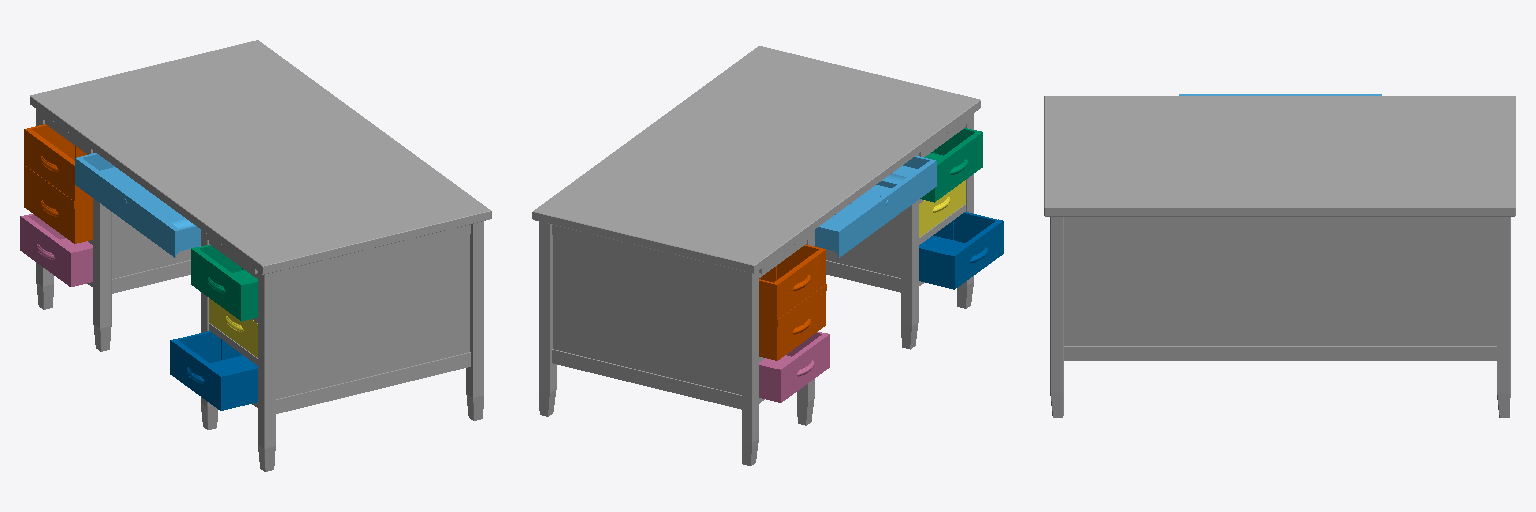
--- Facts derived from the render (not from the file) ---
3 views of the same robot in one strip: view 1: azimuth 30°, elevation 25°; view 2: azimuth 150°, elevation 25°; view 3: azimuth 270°, elevation 25° (orthographic).
Robot: partnet_f643a64a4e38723f73c478529c40c4e6 — 8 links, 7 joints (6 prismatic, 1 fixed); root link base; default pose: every joint at zero.
Links seen in each view (by area): view 1: link_6, link_4, link_0, link_3, link_1, link_5, link_2; view 2: link_6, link_4, link_0, link_3, link_5, link_1, link_2; view 3: link_6.
Link boxes in pixels (x1,y1,x2,y2): link_6: [30, 40, 491, 471]; link_4: [24, 124, 92, 243]; link_0: [75, 153, 200, 257]; link_3: [170, 331, 257, 410]; link_1: [191, 245, 257, 321]; link_5: [20, 214, 92, 286]; link_2: [209, 298, 257, 357]; link_6: [532, 46, 980, 465]; link_4: [759, 245, 826, 360]; link_0: [815, 156, 936, 257]; link_3: [919, 212, 1003, 289]; link_5: [759, 332, 829, 402]; link_1: [920, 128, 982, 202]; link_2: [919, 180, 965, 237]; link_6: [1044, 96, 1515, 417].
Size in the robot's own frame: 1.06 by 1.61 by 0.7998 metres.
Meshes: 76 distinct files referenced, 76 mesh visuals loaded (76 OBJ).

robot.urdf — partnet_f643a64a4e38723f73c478529c40c4e6:
<?xml version='1.0' encoding='utf-8'?>
<robot name="partnet_f643a64a4e38723f73c478529c40c4e6">
	<link name="base" />
	<link name="link_0">
		<visual name="drawer_front-92">
			<origin xyz="0 0 0" />
			<geometry>
				<mesh filename="textured_objs/original-5.obj" />
			</geometry>
		</visual>
		<visual name="drawer_side-93">
			<origin xyz="0 0 0" />
			<geometry>
				<mesh filename="textured_objs/original-7.obj" />
			</geometry>
		</visual>
		<visual name="drawer_side-94">
			<origin xyz="0 0 0" />
			<geometry>
				<mesh filename="textured_objs/original-8.obj" />
			</geometry>
		</visual>
		<visual name="drawer_back-95">
			<origin xyz="0 0 0" />
			<geometry>
				<mesh filename="textured_objs/original-6.obj" />
			</geometry>
		</visual>
		<visual name="drawer_bottom-96">
			<origin xyz="0 0 0" />
			<geometry>
				<mesh filename="textured_objs/original-9.obj" />
			</geometry>
		</visual>
		<visual name="other_leaf-118">
			<origin xyz="0 0 0" />
			<geometry>
				<mesh filename="textured_objs/original-3.obj" />
			</geometry>
		</visual>
		<visual name="other_leaf-118">
			<origin xyz="0 0 0" />
			<geometry>
				<mesh filename="textured_objs/original-4.obj" />
			</geometry>
		</visual>
		<collision>
			<origin xyz="0 0 0" />
			<geometry>
				<mesh filename="textured_objs/original-5.obj" />
			</geometry>
		</collision>
		<collision>
			<origin xyz="0 0 0" />
			<geometry>
				<mesh filename="textured_objs/original-7.obj" />
			</geometry>
		</collision>
		<collision>
			<origin xyz="0 0 0" />
			<geometry>
				<mesh filename="textured_objs/original-8.obj" />
			</geometry>
		</collision>
		<collision>
			<origin xyz="0 0 0" />
			<geometry>
				<mesh filename="textured_objs/original-6.obj" />
			</geometry>
		</collision>
		<collision>
			<origin xyz="0 0 0" />
			<geometry>
				<mesh filename="textured_objs/original-9.obj" />
			</geometry>
		</collision>
		<collision>
			<origin xyz="0 0 0" />
			<geometry>
				<mesh filename="textured_objs/original-3.obj" />
			</geometry>
		</collision>
		<collision>
			<origin xyz="0 0 0" />
			<geometry>
				<mesh filename="textured_objs/original-4.obj" />
			</geometry>
		</collision>
	</link>
	<joint name="joint_0" type="prismatic">
		<origin xyz="0 0 0" />
		<axis xyz="0 0 1" />
		<child link="link_0" />
		<parent link="link_6" />
		<limit lower="-0.08800000000000008" upper="0.6400000000000001" />
	</joint>
	<link name="link_1">
		<visual name="drawer_front-84">
			<origin xyz="0 0 0" />
			<geometry>
				<mesh filename="textured_objs/original-83.obj" />
			</geometry>
		</visual>
		<visual name="drawer_side-85">
			<origin xyz="0 0 0" />
			<geometry>
				<mesh filename="textured_objs/original-88.obj" />
			</geometry>
		</visual>
		<visual name="drawer_side-86">
			<origin xyz="0 0 0" />
			<geometry>
				<mesh filename="textured_objs/original-86.obj" />
			</geometry>
		</visual>
		<visual name="drawer_back-87">
			<origin xyz="0 0 0" />
			<geometry>
				<mesh filename="textured_objs/original-87.obj" />
			</geometry>
		</visual>
		<visual name="drawer_bottom-88">
			<origin xyz="0 0 0" />
			<geometry>
				<mesh filename="textured_objs/original-89.obj" />
			</geometry>
		</visual>
		<visual name="handle-83">
			<origin xyz="0 0 0" />
			<geometry>
				<mesh filename="textured_objs/original-82.obj" />
			</geometry>
		</visual>
		<visual name="handle-83">
			<origin xyz="0 0 0" />
			<geometry>
				<mesh filename="textured_objs/original-81.obj" />
			</geometry>
		</visual>
		<collision>
			<origin xyz="0 0 0" />
			<geometry>
				<mesh filename="textured_objs/original-83.obj" />
			</geometry>
		</collision>
		<collision>
			<origin xyz="0 0 0" />
			<geometry>
				<mesh filename="textured_objs/original-88.obj" />
			</geometry>
		</collision>
		<collision>
			<origin xyz="0 0 0" />
			<geometry>
				<mesh filename="textured_objs/original-86.obj" />
			</geometry>
		</collision>
		<collision>
			<origin xyz="0 0 0" />
			<geometry>
				<mesh filename="textured_objs/original-87.obj" />
			</geometry>
		</collision>
		<collision>
			<origin xyz="0 0 0" />
			<geometry>
				<mesh filename="textured_objs/original-89.obj" />
			</geometry>
		</collision>
		<collision>
			<origin xyz="0 0 0" />
			<geometry>
				<mesh filename="textured_objs/original-82.obj" />
			</geometry>
		</collision>
		<collision>
			<origin xyz="0 0 0" />
			<geometry>
				<mesh filename="textured_objs/original-81.obj" />
			</geometry>
		</collision>
	</link>
	<joint name="joint_1" type="prismatic">
		<origin xyz="0 0 0" />
		<axis xyz="0 0 1" />
		<child link="link_1" />
		<parent link="link_6" />
		<limit lower="-0.06000000000000005" upper="0.6840000000000002" />
	</joint>
	<link name="link_2">
		<visual name="drawer_front-77">
			<origin xyz="0 0 0" />
			<geometry>
				<mesh filename="textured_objs/original-46.obj" />
			</geometry>
		</visual>
		<visual name="drawer_side-78">
			<origin xyz="0 0 0" />
			<geometry>
				<mesh filename="textured_objs/original-51.obj" />
			</geometry>
		</visual>
		<visual name="drawer_side-79">
			<origin xyz="0 0 0" />
			<geometry>
				<mesh filename="textured_objs/original-49.obj" />
			</geometry>
		</visual>
		<visual name="drawer_back-80">
			<origin xyz="0 0 0" />
			<geometry>
				<mesh filename="textured_objs/original-50.obj" />
			</geometry>
		</visual>
		<visual name="drawer_bottom-81">
			<origin xyz="0 0 0" />
			<geometry>
				<mesh filename="textured_objs/original-52.obj" />
			</geometry>
		</visual>
		<visual name="handle-76">
			<origin xyz="0 0 0" />
			<geometry>
				<mesh filename="textured_objs/original-45.obj" />
			</geometry>
		</visual>
		<visual name="handle-76">
			<origin xyz="0 0 0" />
			<geometry>
				<mesh filename="textured_objs/original-44.obj" />
			</geometry>
		</visual>
		<collision>
			<origin xyz="0 0 0" />
			<geometry>
				<mesh filename="textured_objs/original-46.obj" />
			</geometry>
		</collision>
		<collision>
			<origin xyz="0 0 0" />
			<geometry>
				<mesh filename="textured_objs/original-51.obj" />
			</geometry>
		</collision>
		<collision>
			<origin xyz="0 0 0" />
			<geometry>
				<mesh filename="textured_objs/original-49.obj" />
			</geometry>
		</collision>
		<collision>
			<origin xyz="0 0 0" />
			<geometry>
				<mesh filename="textured_objs/original-50.obj" />
			</geometry>
		</collision>
		<collision>
			<origin xyz="0 0 0" />
			<geometry>
				<mesh filename="textured_objs/original-52.obj" />
			</geometry>
		</collision>
		<collision>
			<origin xyz="0 0 0" />
			<geometry>
				<mesh filename="textured_objs/original-45.obj" />
			</geometry>
		</collision>
		<collision>
			<origin xyz="0 0 0" />
			<geometry>
				<mesh filename="textured_objs/original-44.obj" />
			</geometry>
		</collision>
	</link>
	<joint name="joint_2" type="prismatic">
		<origin xyz="0 0 0" />
		<axis xyz="0 0 1" />
		<child link="link_2" />
		<parent link="link_6" />
		<limit lower="0" upper="0.7959999999999998" />
	</joint>
	<link name="link_3">
		<visual name="drawer_front-70">
			<origin xyz="0 0 0" />
			<geometry>
				<mesh filename="textured_objs/original-35.obj" />
			</geometry>
		</visual>
		<visual name="drawer_side-71">
			<origin xyz="0 0 0" />
			<geometry>
				<mesh filename="textured_objs/original-40.obj" />
			</geometry>
		</visual>
		<visual name="drawer_side-72">
			<origin xyz="0 0 0" />
			<geometry>
				<mesh filename="textured_objs/original-38.obj" />
			</geometry>
		</visual>
		<visual name="drawer_back-73">
			<origin xyz="0 0 0" />
			<geometry>
				<mesh filename="textured_objs/original-39.obj" />
			</geometry>
		</visual>
		<visual name="drawer_bottom-74">
			<origin xyz="0 0 0" />
			<geometry>
				<mesh filename="textured_objs/original-41.obj" />
			</geometry>
		</visual>
		<visual name="handle-69">
			<origin xyz="0 0 0" />
			<geometry>
				<mesh filename="textured_objs/original-33.obj" />
			</geometry>
		</visual>
		<visual name="handle-69">
			<origin xyz="0 0 0" />
			<geometry>
				<mesh filename="textured_objs/original-34.obj" />
			</geometry>
		</visual>
		<collision>
			<origin xyz="0 0 0" />
			<geometry>
				<mesh filename="textured_objs/original-35.obj" />
			</geometry>
		</collision>
		<collision>
			<origin xyz="0 0 0" />
			<geometry>
				<mesh filename="textured_objs/original-40.obj" />
			</geometry>
		</collision>
		<collision>
			<origin xyz="0 0 0" />
			<geometry>
				<mesh filename="textured_objs/original-38.obj" />
			</geometry>
		</collision>
		<collision>
			<origin xyz="0 0 0" />
			<geometry>
				<mesh filename="textured_objs/original-39.obj" />
			</geometry>
		</collision>
		<collision>
			<origin xyz="0 0 0" />
			<geometry>
				<mesh filename="textured_objs/original-41.obj" />
			</geometry>
		</collision>
		<collision>
			<origin xyz="0 0 0" />
			<geometry>
				<mesh filename="textured_objs/original-33.obj" />
			</geometry>
		</collision>
		<collision>
			<origin xyz="0 0 0" />
			<geometry>
				<mesh filename="textured_objs/original-34.obj" />
			</geometry>
		</collision>
	</link>
	<joint name="joint_3" type="prismatic">
		<origin xyz="0 0 0" />
		<axis xyz="0 0 1" />
		<child link="link_3" />
		<parent link="link_6" />
		<limit lower="-0.1399999999999999" upper="0.6320000000000001" />
	</joint>
	<link name="link_4">
		<visual name="drawer_front-61">
			<origin xyz="0 0 0" />
			<geometry>
				<mesh filename="textured_objs/original-74.obj" />
			</geometry>
		</visual>
		<visual name="drawer_side-62">
			<origin xyz="0 0 0" />
			<geometry>
				<mesh filename="textured_objs/original-75.obj" />
			</geometry>
		</visual>
		<visual name="drawer_side-63">
			<origin xyz="0 0 0" />
			<geometry>
				<mesh filename="textured_objs/original-77.obj" />
			</geometry>
		</visual>
		<visual name="drawer_back-64">
			<origin xyz="0 0 0" />
			<geometry>
				<mesh filename="textured_objs/original-76.obj" />
			</geometry>
		</visual>
		<visual name="drawer_bottom-65">
			<origin xyz="0 0 0" />
			<geometry>
				<mesh filename="textured_objs/original-78.obj" />
			</geometry>
		</visual>
		<visual name="handle-59">
			<origin xyz="0 0 0" />
			<geometry>
				<mesh filename="textured_objs/original-69.obj" />
			</geometry>
		</visual>
		<visual name="handle-59">
			<origin xyz="0 0 0" />
			<geometry>
				<mesh filename="textured_objs/original-68.obj" />
			</geometry>
		</visual>
		<visual name="handle-60">
			<origin xyz="0 0 0" />
			<geometry>
				<mesh filename="textured_objs/original-73.obj" />
			</geometry>
		</visual>
		<visual name="handle-60">
			<origin xyz="0 0 0" />
			<geometry>
				<mesh filename="textured_objs/original-72.obj" />
			</geometry>
		</visual>
		<collision>
			<origin xyz="0 0 0" />
			<geometry>
				<mesh filename="textured_objs/original-74.obj" />
			</geometry>
		</collision>
		<collision>
			<origin xyz="0 0 0" />
			<geometry>
				<mesh filename="textured_objs/original-75.obj" />
			</geometry>
		</collision>
		<collision>
			<origin xyz="0 0 0" />
			<geometry>
				<mesh filename="textured_objs/original-77.obj" />
			</geometry>
		</collision>
		<collision>
			<origin xyz="0 0 0" />
			<geometry>
				<mesh filename="textured_objs/original-76.obj" />
			</geometry>
		</collision>
		<collision>
			<origin xyz="0 0 0" />
			<geometry>
				<mesh filename="textured_objs/original-78.obj" />
			</geometry>
		</collision>
		<collision>
			<origin xyz="0 0 0" />
			<geometry>
				<mesh filename="textured_objs/original-69.obj" />
			</geometry>
		</collision>
		<collision>
			<origin xyz="0 0 0" />
			<geometry>
				<mesh filename="textured_objs/original-68.obj" />
			</geometry>
		</collision>
		<collision>
			<origin xyz="0 0 0" />
			<geometry>
				<mesh filename="textured_objs/original-73.obj" />
			</geometry>
		</collision>
		<collision>
			<origin xyz="0 0 0" />
			<geometry>
				<mesh filename="textured_objs/original-72.obj" />
			</geometry>
		</collision>
	</link>
	<joint name="joint_4" type="prismatic">
		<origin xyz="0 0 0" />
		<axis xyz="0 0 1" />
		<child link="link_4" />
		<parent link="link_6" />
		<limit lower="-0.07600000000000007" upper="0.7120000000000002" />
	</joint>
	<link name="link_5">
		<visual name="drawer_front-39">
			<origin xyz="0 0 0" />
			<geometry>
				<mesh filename="textured_objs/original-57.obj" />
			</geometry>
		</visual>
		<visual name="drawer_side-40">
			<origin xyz="0 0 0" />
			<geometry>
				<mesh filename="textured_objs/original-60.obj" />
			</geometry>
		</visual>
		<visual name="drawer_side-41">
			<origin xyz="0 0 0" />
			<geometry>
				<mesh filename="textured_objs/original-62.obj" />
			</geometry>
		</visual>
		<visual name="drawer_back-42">
			<origin xyz="0 0 0" />
			<geometry>
				<mesh filename="textured_objs/original-61.obj" />
			</geometry>
		</visual>
		<visual name="drawer_bottom-43">
			<origin xyz="0 0 0" />
			<geometry>
				<mesh filename="textured_objs/original-63.obj" />
			</geometry>
		</visual>
		<visual name="handle-38">
			<origin xyz="0 0 0" />
			<geometry>
				<mesh filename="textured_objs/original-56.obj" />
			</geometry>
		</visual>
		<visual name="handle-38">
			<origin xyz="0 0 0" />
			<geometry>
				<mesh filename="textured_objs/original-55.obj" />
			</geometry>
		</visual>
		<collision>
			<origin xyz="0 0 0" />
			<geometry>
				<mesh filename="textured_objs/original-57.obj" />
			</geometry>
		</collision>
		<collision>
			<origin xyz="0 0 0" />
			<geometry>
				<mesh filename="textured_objs/original-60.obj" />
			</geometry>
		</collision>
		<collision>
			<origin xyz="0 0 0" />
			<geometry>
				<mesh filename="textured_objs/original-62.obj" />
			</geometry>
		</collision>
		<collision>
			<origin xyz="0 0 0" />
			<geometry>
				<mesh filename="textured_objs/original-61.obj" />
			</geometry>
		</collision>
		<collision>
			<origin xyz="0 0 0" />
			<geometry>
				<mesh filename="textured_objs/original-63.obj" />
			</geometry>
		</collision>
		<collision>
			<origin xyz="0 0 0" />
			<geometry>
				<mesh filename="textured_objs/original-56.obj" />
			</geometry>
		</collision>
		<collision>
			<origin xyz="0 0 0" />
			<geometry>
				<mesh filename="textured_objs/original-55.obj" />
			</geometry>
		</collision>
	</link>
	<joint name="joint_5" type="prismatic">
		<origin xyz="0 0 0" />
		<axis xyz="0 0 1" />
		<child link="link_5" />
		<parent link="link_6" />
		<limit lower="-0.08800000000000008" upper="0.6960000000000002" />
	</joint>
	<link name="link_6">
		<visual name="board-67">
			<origin xyz="0 0 0" />
			<geometry>
				<mesh filename="textured_objs/original-1.obj" />
			</geometry>
		</visual>
		<visual name="leg-19">
			<origin xyz="0 0 0" />
			<geometry>
				<mesh filename="textured_objs/original-27.obj" />
			</geometry>
		</visual>
		<visual name="leg-20">
			<origin xyz="0 0 0" />
			<geometry>
				<mesh filename="textured_objs/original-29.obj" />
			</geometry>
		</visual>
		<visual name="leg-21">
			<origin xyz="0 0 0" />
			<geometry>
				<mesh filename="textured_objs/original-23.obj" />
			</geometry>
		</visual>
		<visual name="leg-22">
			<origin xyz="0 0 0" />
			<geometry>
				<mesh filename="textured_objs/original-20.obj" />
			</geometry>
		</visual>
		<visual name="leg-23">
			<origin xyz="0 0 0" />
			<geometry>
				<mesh filename="textured_objs/original-25.obj" />
			</geometry>
		</visual>
		<visual name="leg-24">
			<origin xyz="0 0 0" />
			<geometry>
				<mesh filename="textured_objs/original-30.obj" />
			</geometry>
		</visual>
		<visual name="back_panel-32">
			<origin xyz="0 0 0" />
			<geometry>
				<mesh filename="textured_objs/original-28.obj" />
			</geometry>
		</visual>
		<visual name="vertical_side_panel-33">
			<origin xyz="0 0 0" />
			<geometry>
				<mesh filename="textured_objs/original-17.obj" />
			</geometry>
		</visual>
		<visual name="vertical_side_panel-34">
			<origin xyz="0 0 0" />
			<geometry>
				<mesh filename="textured_objs/original-26.obj" />
			</geometry>
		</visual>
		<visual name="vertical_side_panel-35">
			<origin xyz="0 0 0" />
			<geometry>
				<mesh filename="textured_objs/original-16.obj" />
			</geometry>
		</visual>
		<visual name="vertical_side_panel-36">
			<origin xyz="0 0 0" />
			<geometry>
				<mesh filename="textured_objs/original-24.obj" />
			</geometry>
		</visual>
		<visual name="bar_stretcher-99">
			<origin xyz="0 0 0" />
			<geometry>
				<mesh filename="textured_objs/original-22.obj" />
			</geometry>
		</visual>
		<visual name="bar_stretcher-100">
			<origin xyz="0 0 0" />
			<geometry>
				<mesh filename="textured_objs/original-13.obj" />
			</geometry>
		</visual>
		<visual name="bar_stretcher-101">
			<origin xyz="0 0 0" />
			<geometry>
				<mesh filename="textured_objs/original-12.obj" />
			</geometry>
		</visual>
		<visual name="bar_stretcher-102">
			<origin xyz="0 0 0" />
			<geometry>
				<mesh filename="textured_objs/original-21.obj" />
			</geometry>
		</visual>
		<visual name="bar_stretcher-103">
			<origin xyz="0 0 0" />
			<geometry>
				<mesh filename="textured_objs/original-19.obj" />
			</geometry>
		</visual>
		<visual name="bar_stretcher-104">
			<origin xyz="0 0 0" />
			<geometry>
				<mesh filename="textured_objs/original-14.obj" />
			</geometry>
		</visual>
		<visual name="bar_stretcher-105">
			<origin xyz="0 0 0" />
			<geometry>
				<mesh filename="textured_objs/original-15.obj" />
			</geometry>
		</visual>
		<visual name="vertical_divider_panel-106">
			<origin xyz="0 0 0" />
			<geometry>
				<mesh filename="textured_objs/original-36.obj" />
			</geometry>
		</visual>
		<visual name="vertical_divider_panel-107">
			<origin xyz="0 0 0" />
			<geometry>
				<mesh filename="textured_objs/original-48.obj" />
			</geometry>
		</visual>
		<visual name="vertical_divider_panel-108">
			<origin xyz="0 0 0" />
			<geometry>
				<mesh filename="textured_objs/original-47.obj" />
			</geometry>
		</visual>
		<visual name="vertical_divider_panel-109">
			<origin xyz="0 0 0" />
			<geometry>
				<mesh filename="textured_objs/original-84.obj" />
			</geometry>
		</visual>
		<visual name="vertical_divider_panel-110">
			<origin xyz="0 0 0" />
			<geometry>
				<mesh filename="textured_objs/original-85.obj" />
			</geometry>
		</visual>
		<visual name="vertical_divider_panel-111">
			<origin xyz="0 0 0" />
			<geometry>
				<mesh filename="textured_objs/original-10.obj" />
			</geometry>
		</visual>
		<visual name="vertical_divider_panel-112">
			<origin xyz="0 0 0" />
			<geometry>
				<mesh filename="textured_objs/original-70.obj" />
			</geometry>
		</visual>
		<visual name="vertical_divider_panel-113">
			<origin xyz="0 0 0" />
			<geometry>
				<mesh filename="textured_objs/original-59.obj" />
			</geometry>
		</visual>
		<visual name="vertical_divider_panel-114">
			<origin xyz="0 0 0" />
			<geometry>
				<mesh filename="textured_objs/original-58.obj" />
			</geometry>
		</visual>
		<visual name="bar_stretcher-115">
			<origin xyz="0 0 0" />
			<geometry>
				<mesh filename="textured_objs/original-18.obj" />
			</geometry>
		</visual>
		<visual name="vertical_divider_panel-116">
			<origin xyz="0 0 0" />
			<geometry>
				<mesh filename="textured_objs/original-37.obj" />
			</geometry>
		</visual>
		<visual name="tabletop_connector-119">
			<origin xyz="0 0 0" />
			<geometry>
				<mesh filename="textured_objs/original-65.obj" />
			</geometry>
		</visual>
		<visual name="tabletop_connector-120">
			<origin xyz="0 0 0" />
			<geometry>
				<mesh filename="textured_objs/original-64.obj" />
			</geometry>
		</visual>
		<collision>
			<origin xyz="0 0 0" />
			<geometry>
				<mesh filename="textured_objs/original-1.obj" />
			</geometry>
		</collision>
		<collision>
			<origin xyz="0 0 0" />
			<geometry>
				<mesh filename="textured_objs/original-27.obj" />
			</geometry>
		</collision>
		<collision>
			<origin xyz="0 0 0" />
			<geometry>
				<mesh filename="textured_objs/original-29.obj" />
			</geometry>
		</collision>
		<collision>
			<origin xyz="0 0 0" />
			<geometry>
				<mesh filename="textured_objs/original-23.obj" />
			</geometry>
		</collision>
		<collision>
			<origin xyz="0 0 0" />
			<geometry>
				<mesh filename="textured_objs/original-20.obj" />
			</geometry>
		</collision>
		<collision>
			<origin xyz="0 0 0" />
			<geometry>
				<mesh filename="textured_objs/original-25.obj" />
			</geometry>
		</collision>
		<collision>
			<origin xyz="0 0 0" />
			<geometry>
				<mesh filename="textured_objs/original-30.obj" />
			</geometry>
		</collision>
		<collision>
			<origin xyz="0 0 0" />
			<geometry>
				<mesh filename="textured_objs/original-28.obj" />
			</geometry>
		</collision>
		<collision>
			<origin xyz="0 0 0" />
			<geometry>
				<mesh filename="textured_objs/original-17.obj" />
			</geometry>
		</collision>
		<collision>
			<origin xyz="0 0 0" />
			<geometry>
				<mesh filename="textured_objs/original-26.obj" />
			</geometry>
		</collision>
		<collision>
			<origin xyz="0 0 0" />
			<geometry>
				<mesh filename="textured_objs/original-16.obj" />
			</geometry>
		</collision>
		<collision>
			<origin xyz="0 0 0" />
			<geometry>
				<mesh filename="textured_objs/original-24.obj" />
			</geometry>
		</collision>
		<collision>
			<origin xyz="0 0 0" />
			<geometry>
				<mesh filename="textured_objs/original-22.obj" />
			</geometry>
		</collision>
		<collision>
			<origin xyz="0 0 0" />
			<geometry>
				<mesh filename="textured_objs/original-13.obj" />
			</geometry>
		</collision>
		<collision>
			<origin xyz="0 0 0" />
			<geometry>
				<mesh filename="textured_objs/original-12.obj" />
			</geometry>
		</collision>
		<collision>
			<origin xyz="0 0 0" />
			<geometry>
				<mesh filename="textured_objs/original-21.obj" />
			</geometry>
		</collision>
		<collision>
			<origin xyz="0 0 0" />
			<geometry>
				<mesh filename="textured_objs/original-19.obj" />
			</geometry>
		</collision>
		<collision>
			<origin xyz="0 0 0" />
			<geometry>
				<mesh filename="textured_objs/original-14.obj" />
			</geometry>
		</collision>
		<collision>
			<origin xyz="0 0 0" />
			<geometry>
				<mesh filename="textured_objs/original-15.obj" />
			</geometry>
		</collision>
		<collision>
			<origin xyz="0 0 0" />
			<geometry>
				<mesh filename="textured_objs/original-36.obj" />
			</geometry>
		</collision>
		<collision>
			<origin xyz="0 0 0" />
			<geometry>
				<mesh filename="textured_objs/original-48.obj" />
			</geometry>
		</collision>
		<collision>
			<origin xyz="0 0 0" />
			<geometry>
				<mesh filename="textured_objs/original-47.obj" />
			</geometry>
		</collision>
		<collision>
			<origin xyz="0 0 0" />
			<geometry>
				<mesh filename="textured_objs/original-84.obj" />
			</geometry>
		</collision>
		<collision>
			<origin xyz="0 0 0" />
			<geometry>
				<mesh filename="textured_objs/original-85.obj" />
			</geometry>
		</collision>
		<collision>
			<origin xyz="0 0 0" />
			<geometry>
				<mesh filename="textured_objs/original-10.obj" />
			</geometry>
		</collision>
		<collision>
			<origin xyz="0 0 0" />
			<geometry>
				<mesh filename="textured_objs/original-70.obj" />
			</geometry>
		</collision>
		<collision>
			<origin xyz="0 0 0" />
			<geometry>
				<mesh filename="textured_objs/original-59.obj" />
			</geometry>
		</collision>
		<collision>
			<origin xyz="0 0 0" />
			<geometry>
				<mesh filename="textured_objs/original-58.obj" />
			</geometry>
		</collision>
		<collision>
			<origin xyz="0 0 0" />
			<geometry>
				<mesh filename="textured_objs/original-18.obj" />
			</geometry>
		</collision>
		<collision>
			<origin xyz="0 0 0" />
			<geometry>
				<mesh filename="textured_objs/original-37.obj" />
			</geometry>
		</collision>
		<collision>
			<origin xyz="0 0 0" />
			<geometry>
				<mesh filename="textured_objs/original-65.obj" />
			</geometry>
		</collision>
		<collision>
			<origin xyz="0 0 0" />
			<geometry>
				<mesh filename="textured_objs/original-64.obj" />
			</geometry>
		</collision>
	</link>
	<joint name="joint_6" type="fixed">
		<origin rpy="1.570796326794897 0 -1.570796326794897" xyz="0 0 0" />
		<child link="link_6" />
		<parent link="base" />
	</joint>
</robot>
